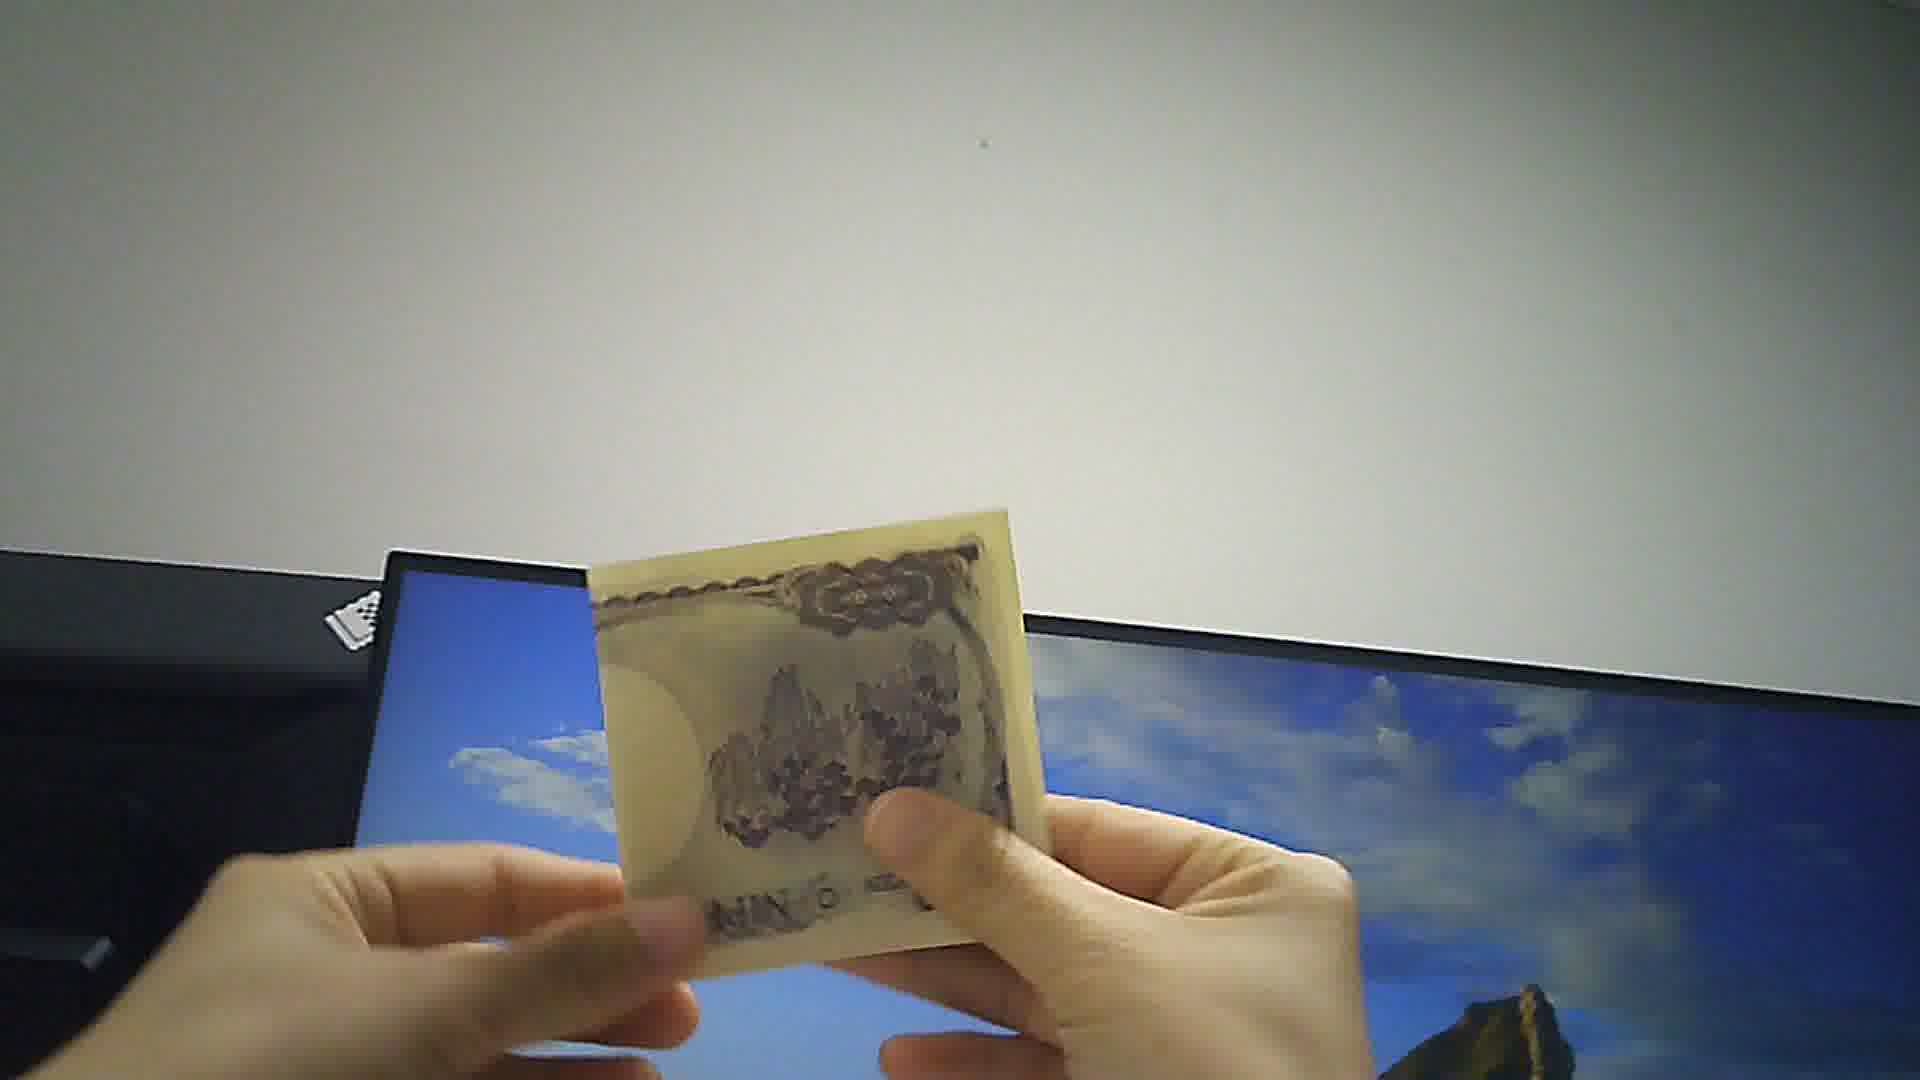5,000 Yen: (576, 510, 1069, 960)
